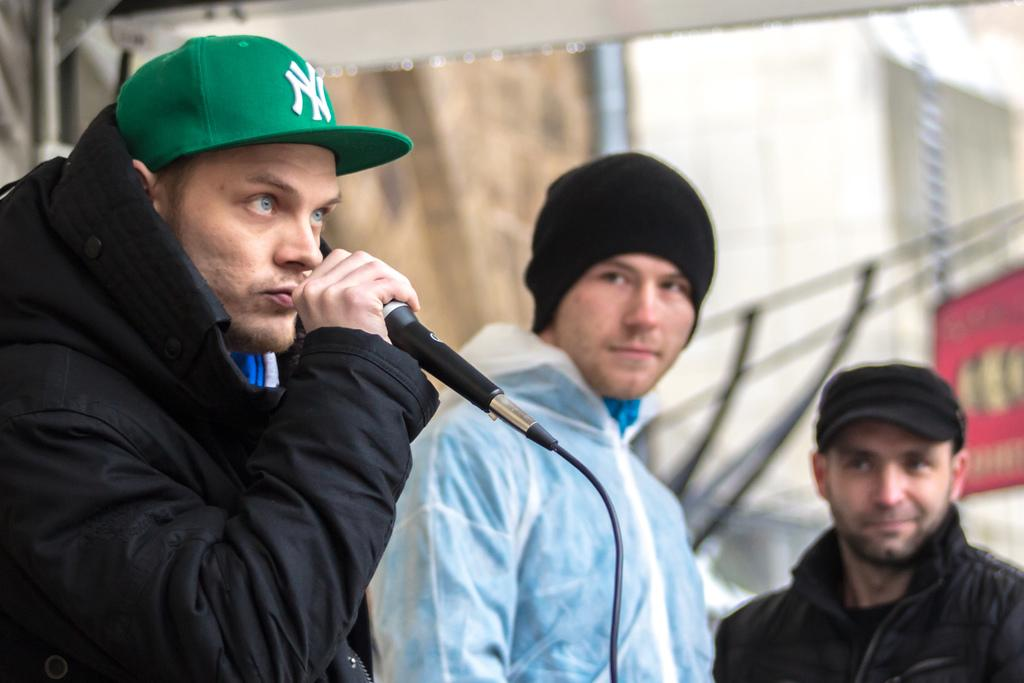Hat: (118, 29, 418, 178), (802, 362, 968, 454)
